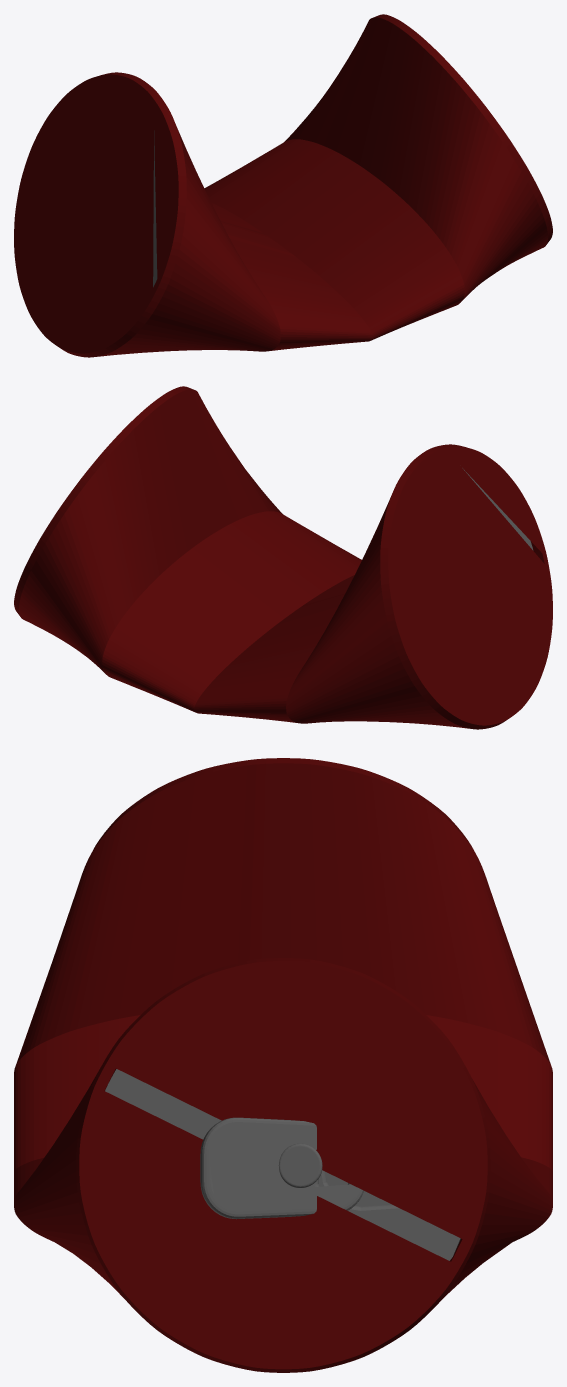
File: canred.obj
3 views of the same model, one above another, from view 1: azimuth 30°, elevation 25°; view 2: azimuth 150°, elevation 25°; view 3: azimuth 270°, elevation 25° (orthographic). The views are drawn at different scales.
Parts seen in each view (by area): view 1: 円柱.004; view 2: 円柱.004; view 3: 円柱.004.
Part boxes in pixels (x1,y1,x2,y2): 円柱.004: [14, 14, 552, 357]; 円柱.004: [14, 386, 552, 729]; 円柱.004: [14, 758, 552, 1372].
Size of the model in its own units: 2.78 by 1.4 by 1.93.
